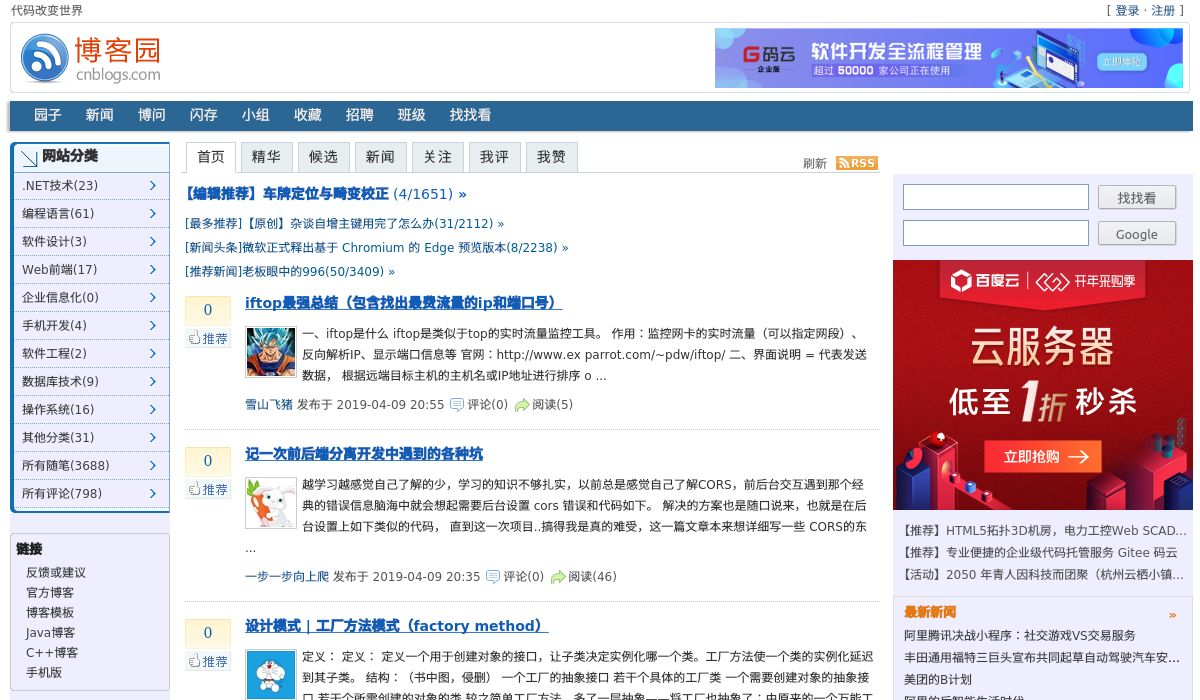menu: (9, 100, 1192, 131)
menu-button: (445, 103, 494, 124), (29, 105, 67, 127), (79, 104, 117, 126), (132, 104, 170, 126), (184, 104, 222, 126), (237, 104, 275, 126), (288, 103, 326, 125), (341, 103, 379, 125), (392, 103, 430, 125)
